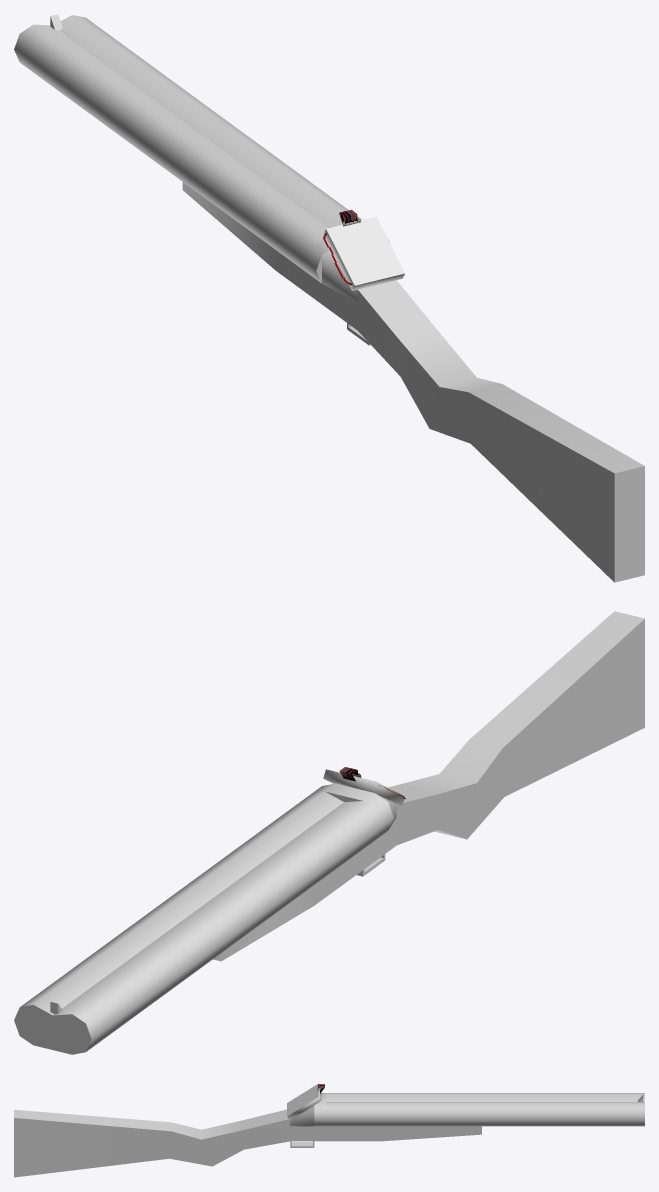
Rendered from DoubleShotgun.fbx.
The picture shows the model from 3 angles, top to bottom: view 1: azimuth 30°, elevation 25°; view 2: azimuth 150°, elevation 25°; view 3: azimuth 270°, elevation 25°; orthographic projection. The views are drawn at different scales.
Visible parts, largest first — view 1: Shotgun, ShotgunBarrel, Screen, AmmoScreen; view 2: ShotgunBarrel, Shotgun, AmmoScreen; view 3: Shotgun, ShotgunBarrel, AmmoScreen, Screen.
Boxes of the visible parts, x1=… form: Shotgun: x1=275, y1=238, x2=644, y2=582; ShotgunBarrel: x1=14, y1=14, x2=361, y2=275; Screen: x1=334, y1=223, x2=396, y2=278; AmmoScreen: x1=323, y1=216, x2=404, y2=290; ShotgunBarrel: x1=14, y1=791, x2=382, y2=1054; Shotgun: x1=311, y1=611, x2=644, y2=904; AmmoScreen: x1=323, y1=769, x2=404, y2=805; Shotgun: x1=14, y1=1093, x2=379, y2=1177; ShotgunBarrel: x1=326, y1=1093, x2=644, y2=1141; AmmoScreen: x1=287, y1=1083, x2=321, y2=1120; Screen: x1=290, y1=1087, x2=315, y2=1112.
Size of the model in its own units: 30.78 by 60.51 by 396.
